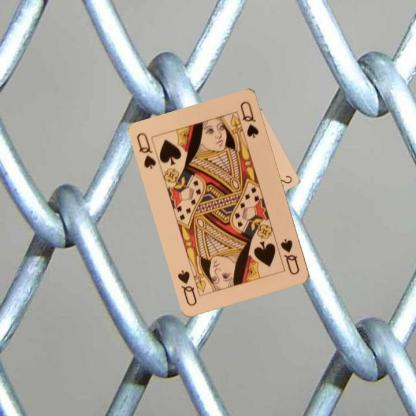Qs: (134, 130, 158, 170), (278, 236, 301, 276)
